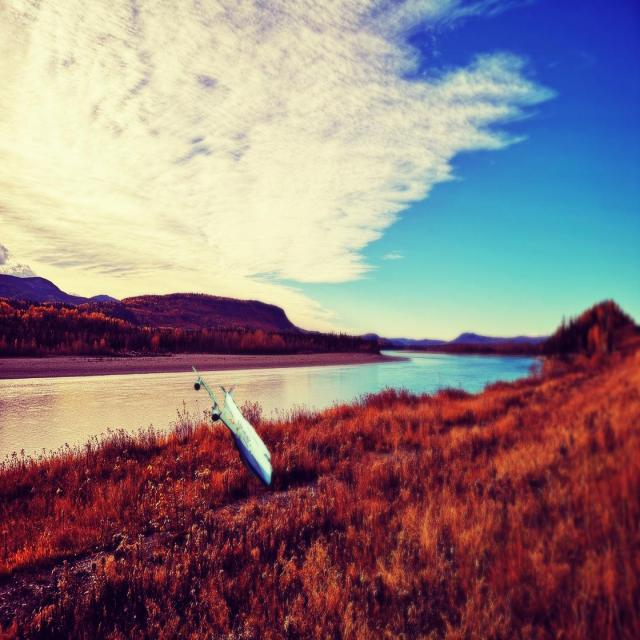airplane: (191, 364, 273, 486)
